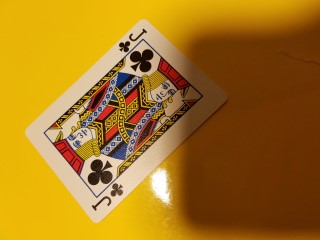JackOfClubs: (25, 20, 230, 223)
